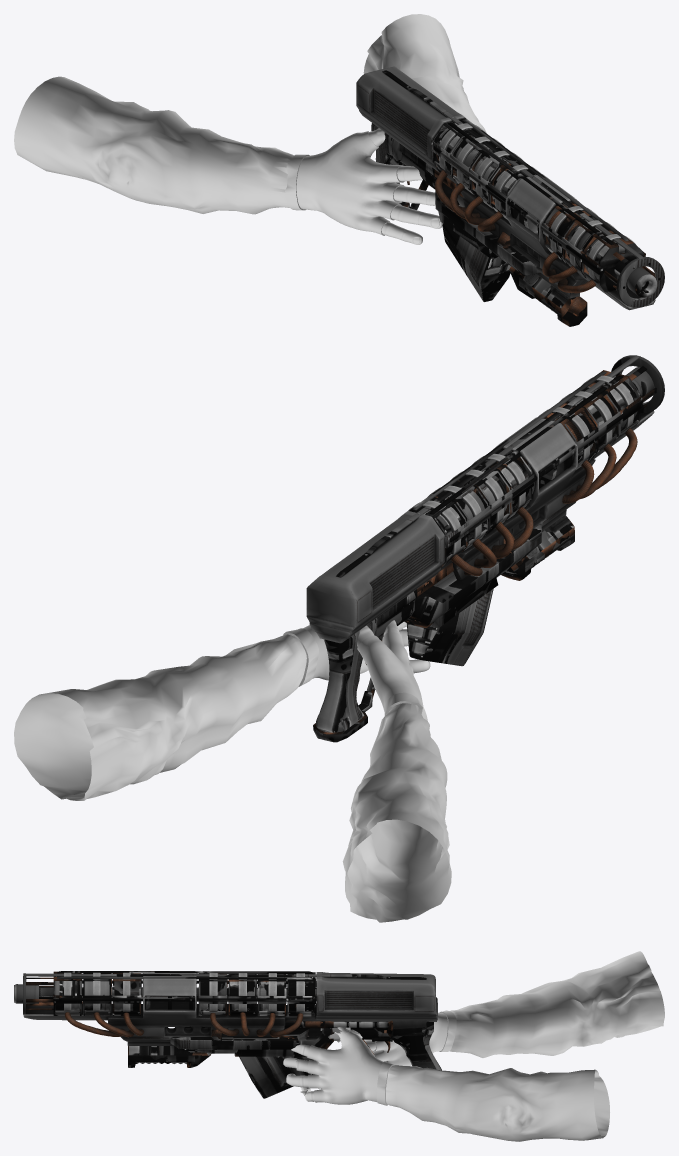
The model's file is Gun1.FBX.
The picture shows the model from 3 angles, top to bottom: view 1: azimuth 30°, elevation 25°; view 2: azimuth 150°, elevation 25°; view 3: azimuth 270°, elevation 25°; orthographic projection. The views are drawn at different scales.
Visible parts, largest first — view 1: Hands, default; view 2: Hands, default; view 3: Hands, default.
Part boxes in pixels (x1,y1,x2,y2): Hands: (14,14,486,244); default: (356,66,664,326); Hands: (14,620,451,922); default: (306,355,664,742); Hands: (283,951,664,1141); default: (14,971,441,1098).
Size of the model in its own units: 42.6 by 16.71 by 75.8.
